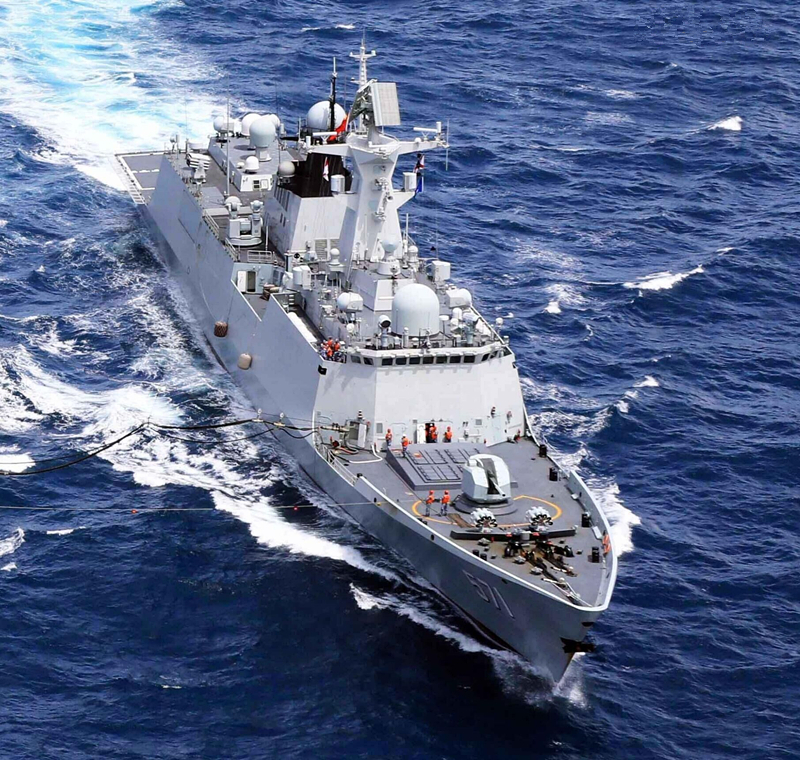warship: (106, 35, 636, 695)
